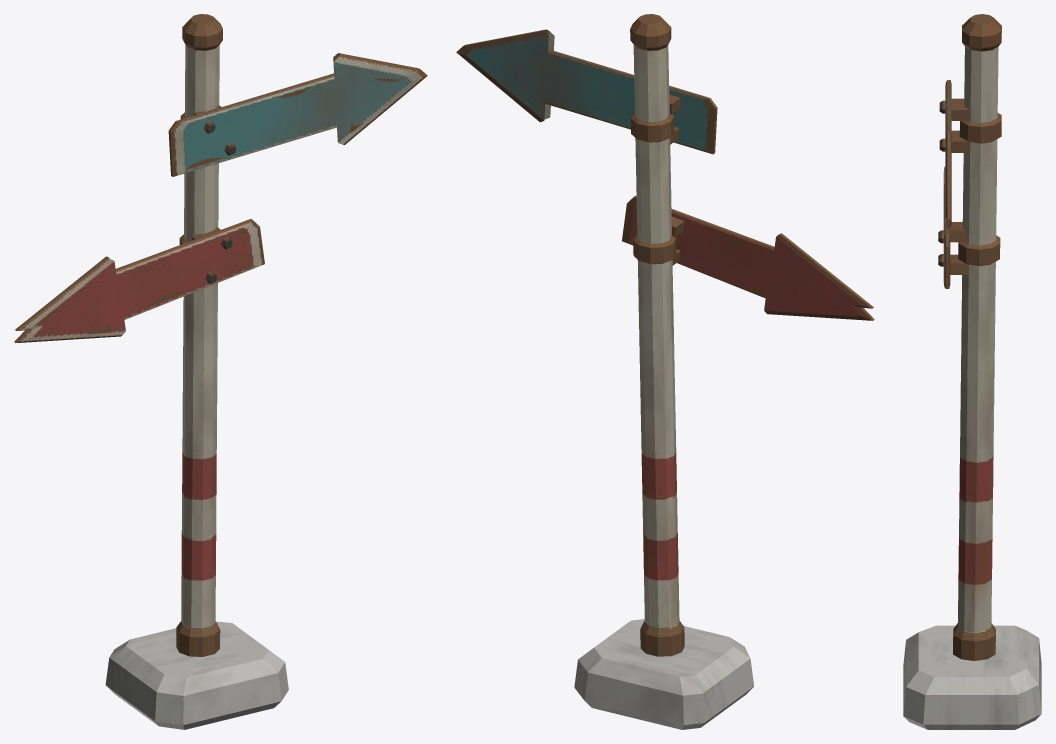
The model's file is RE16_old_signpost.glb.
3 renders of one model, left to right at view 1: azimuth 30°, elevation 25°; view 2: azimuth 150°, elevation 25°; view 3: azimuth 270°, elevation 25°, orthographic.
Visible parts, largest first — view 1: Old signpost; view 2: Old signpost; view 3: Old signpost.
Boxes of the visible parts, x1=… form: Old signpost: x1=14, y1=14, x2=427, y2=729; Old signpost: x1=456, y1=14, x2=874, y2=729; Old signpost: x1=903, y1=14, x2=1041, y2=729.
Size of the model in its own units: 1.93 by 3 by 0.55.
Materials: 6 (6 with a texture image).
